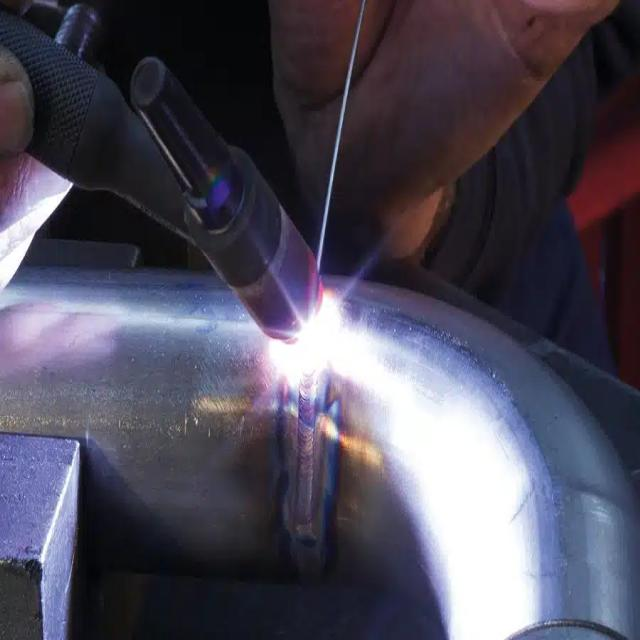welding: (278, 296, 347, 377)
